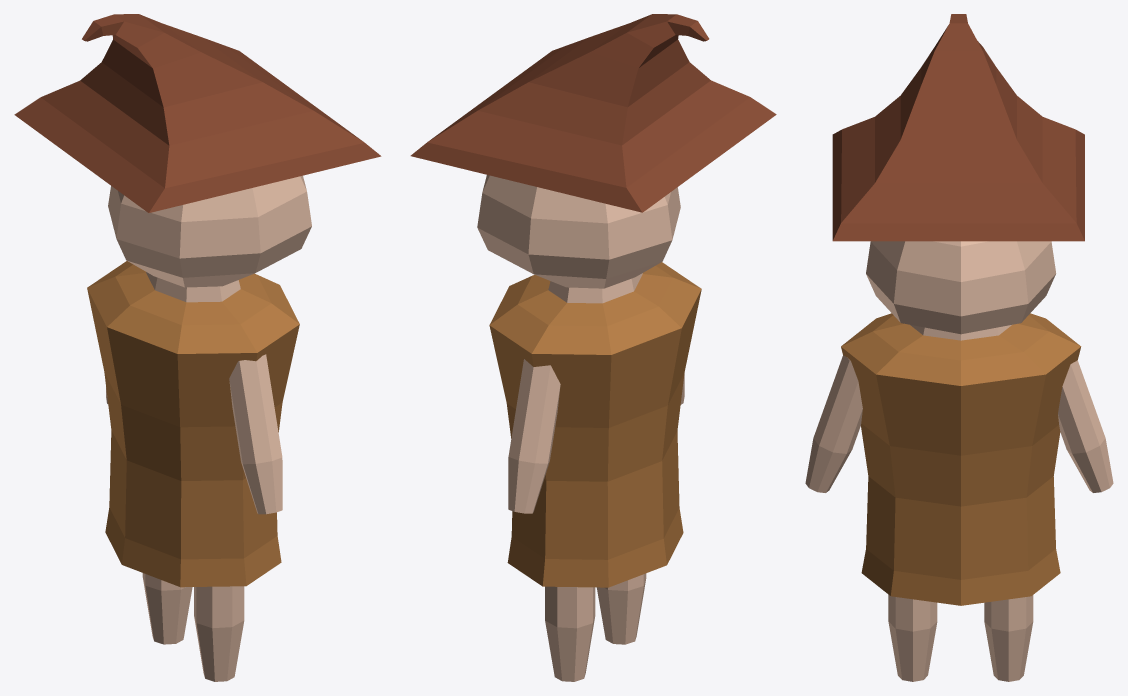
The model's file is Character.fbx.
3 views of the same model, side by side, from view 1: azimuth 30°, elevation 25°; view 2: azimuth 150°, elevation 25°; view 3: azimuth 270°, elevation 25° (orthographic). The views are drawn at different scales.
Parts seen in each view (by area): view 1: Cylinder.026, Cube.019, Cylinder.020, Cylinder.024, Cylinder.027, Cylinder.021; view 2: Cylinder.026, Cube.019, Cylinder.020, Cylinder.022, Cylinder.021, Cylinder.027; view 3: Cylinder.026, Cube.019, Cylinder.020, Cylinder.024, Cylinder.022, Cylinder.027, Cylinder.021.
Boxes of the visible parts, x1,y1,x2,y2 form: Cylinder.026: (87,261,299,587); Cube.019: (14,14,381,212); Cylinder.020: (108,175,311,287); Cylinder.024: (229,354,282,514); Cylinder.027: (194,586,244,681); Cylinder.021: (142,573,192,644); Cylinder.026: (489,262,701,587); Cube.019: (410,14,776,212); Cylinder.020: (477,175,680,288); Cylinder.022: (508,359,560,513); Cylinder.021: (545,586,595,681); Cylinder.027: (596,573,646,644); Cylinder.026: (841,313,1081,605); Cube.019: (832,14,1084,241); Cylinder.020: (866,241,1056,334); Cylinder.024: (805,355,862,492); Cylinder.022: (1058,360,1113,492); Cylinder.027: (888,594,937,681); Cylinder.021: (984,595,1033,681).
Size of the model in its own units: 251 by 677 by 306.
